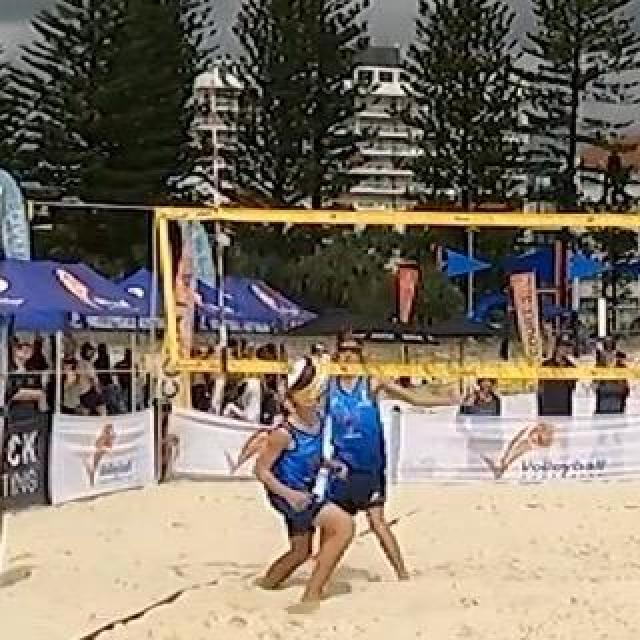volleyball: (287, 355, 331, 401)
